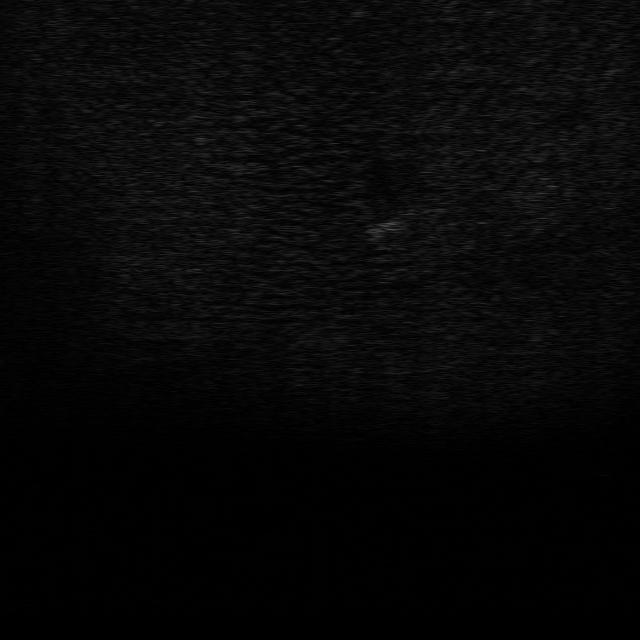plane: (355, 202, 417, 244)
